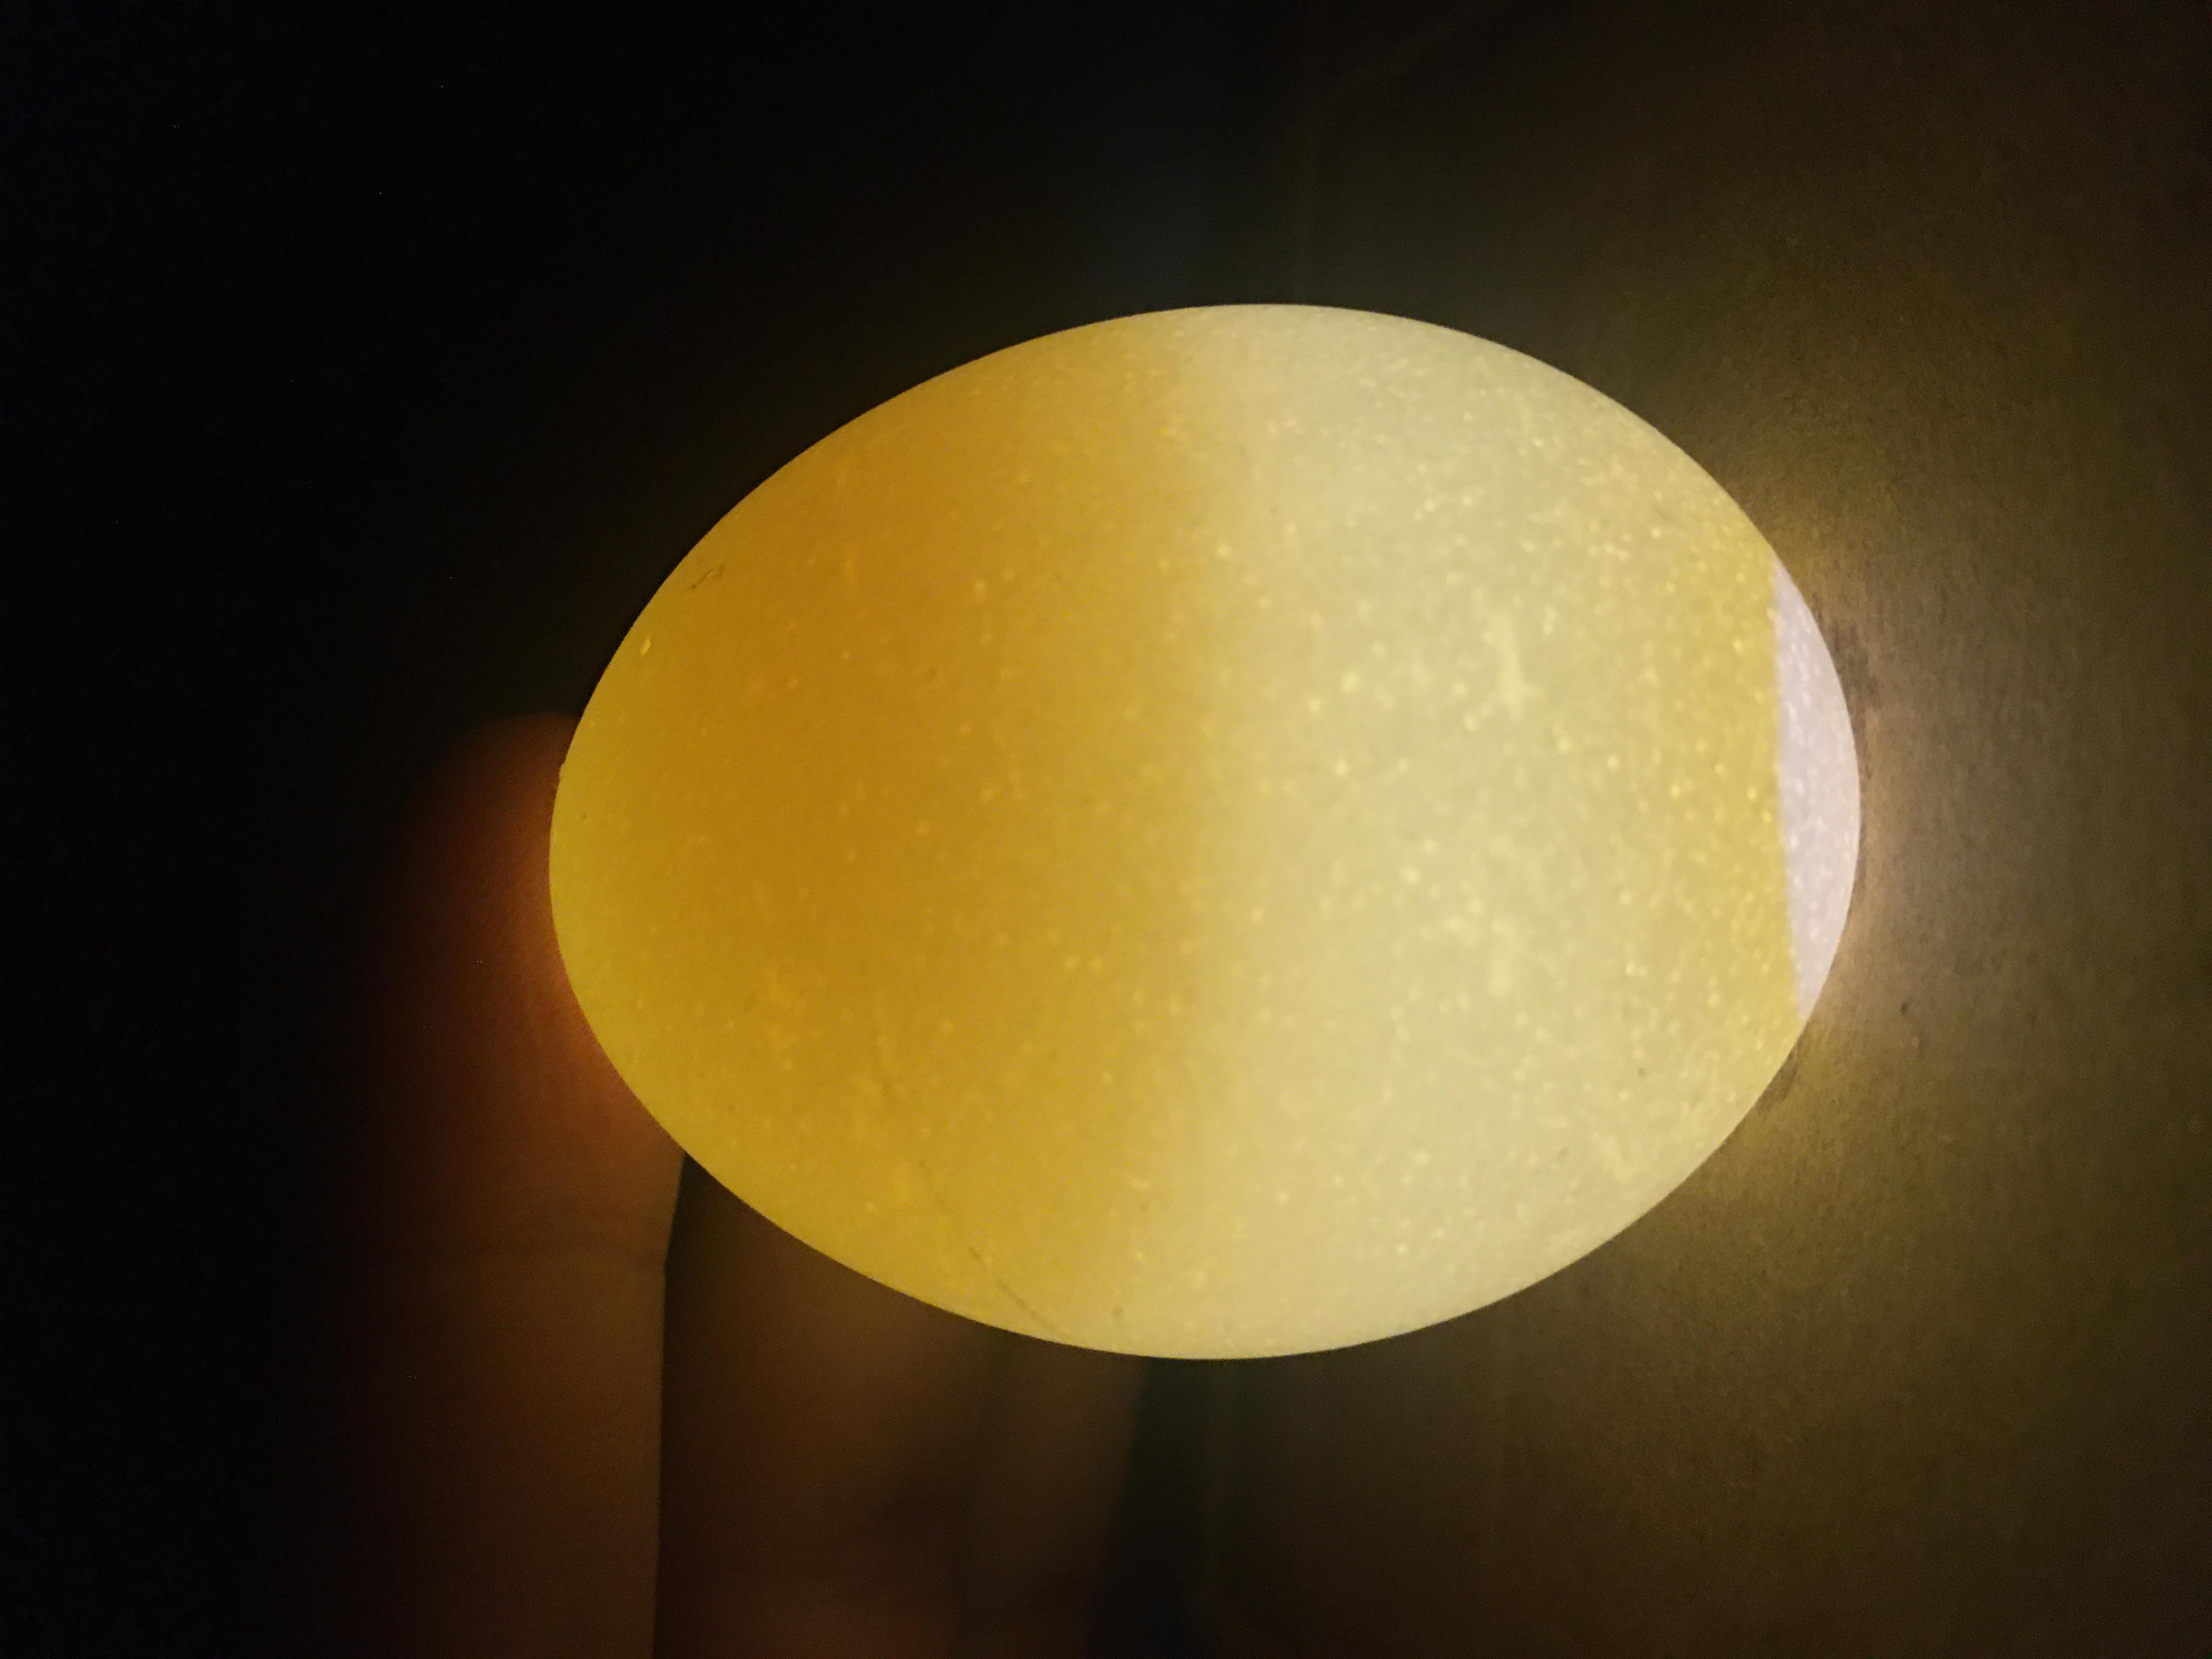A - Good: (333, 411, 1829, 1410)
